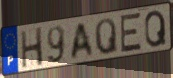9: (46, 25, 68, 64)
A: (69, 21, 95, 62)
E: (120, 12, 142, 55)
H: (19, 26, 45, 70)
Q: (143, 8, 168, 49), (94, 17, 120, 56)
